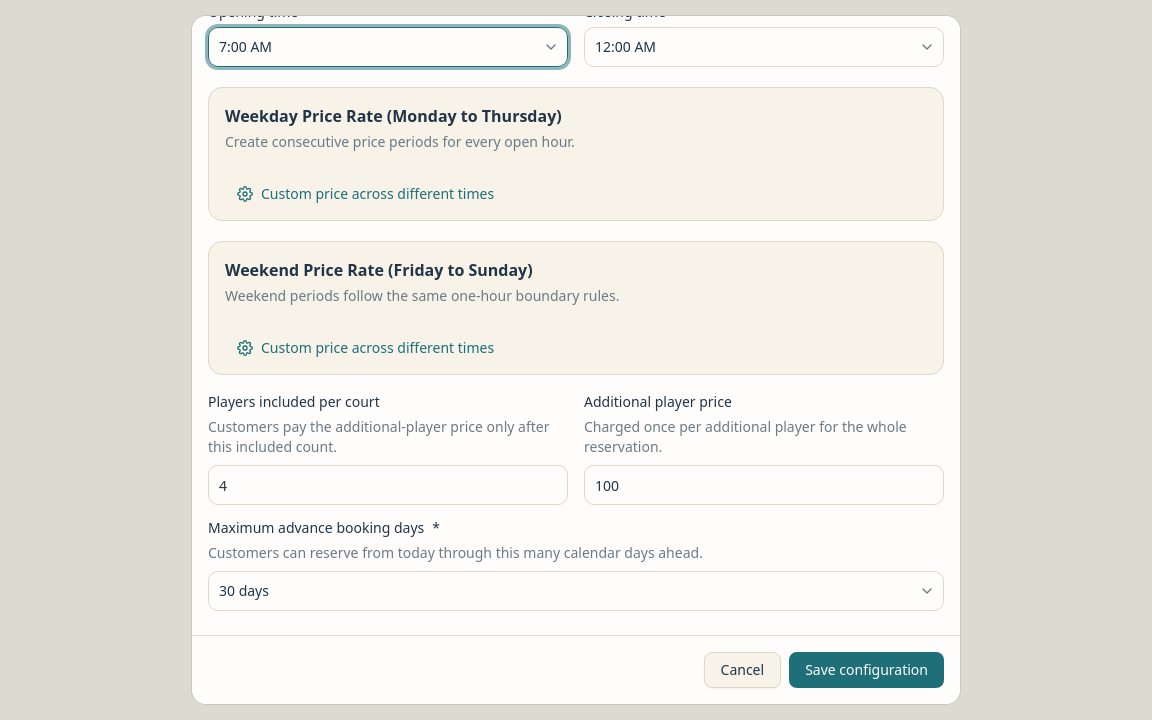
it: guides staff to add both missing price periods before saving a new configuration
(page scrolled)
Click the button "Save configuration".
click(867, 670)  # box [789,652,944,688]
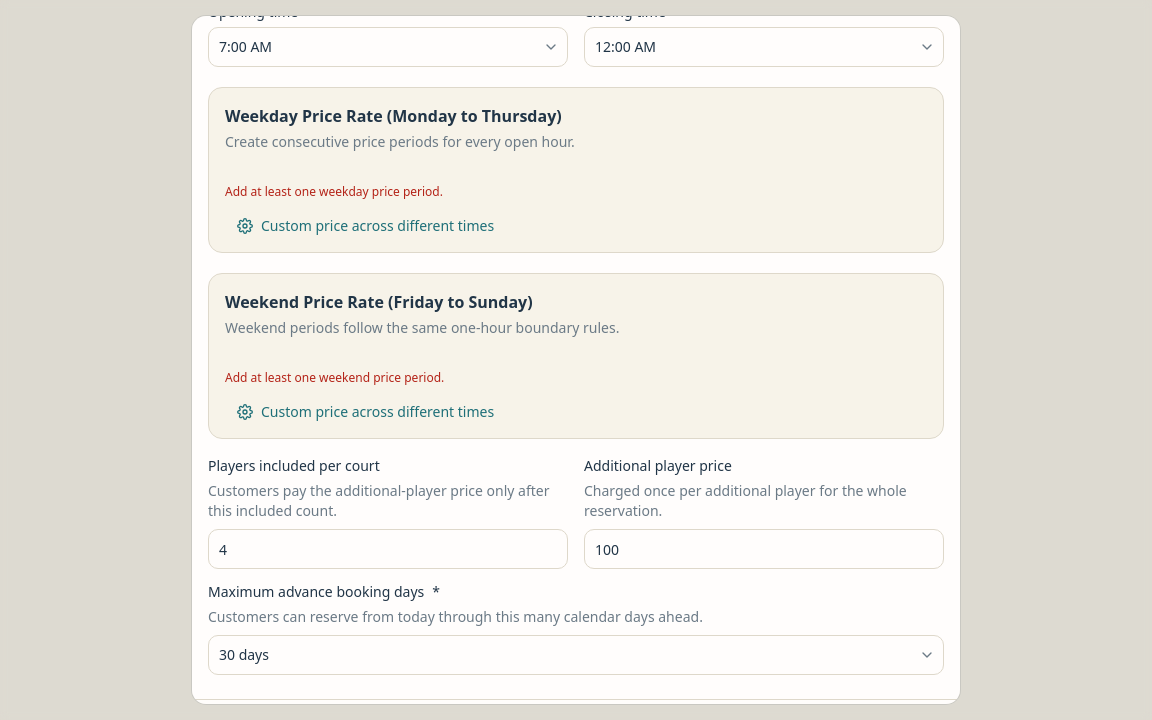
Check: the text "Add at least one weekday price period." is shown, box [225,183,443,200]
Check: the text "Add at least one weekend price period." is shown, box [225,369,444,386]
